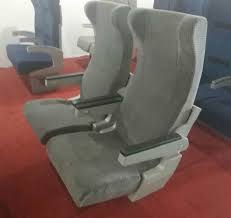seat: (35, 71, 117, 131)
